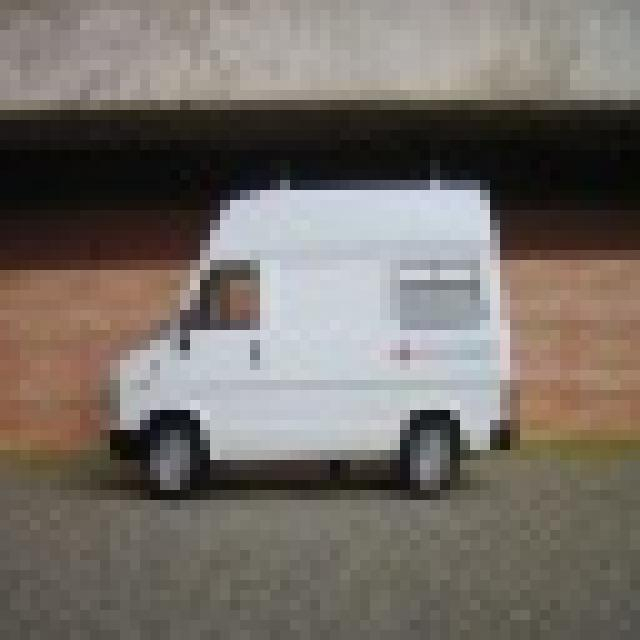Ambulance: (100, 170, 510, 490)
